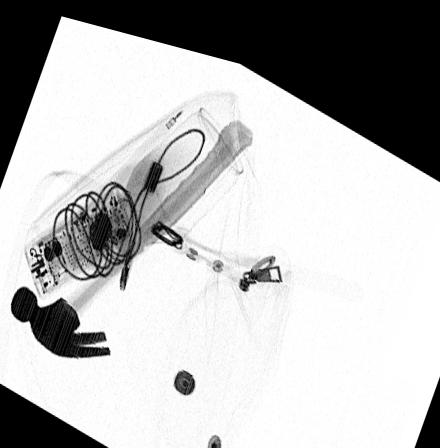Hammer: (10, 104, 254, 354)
